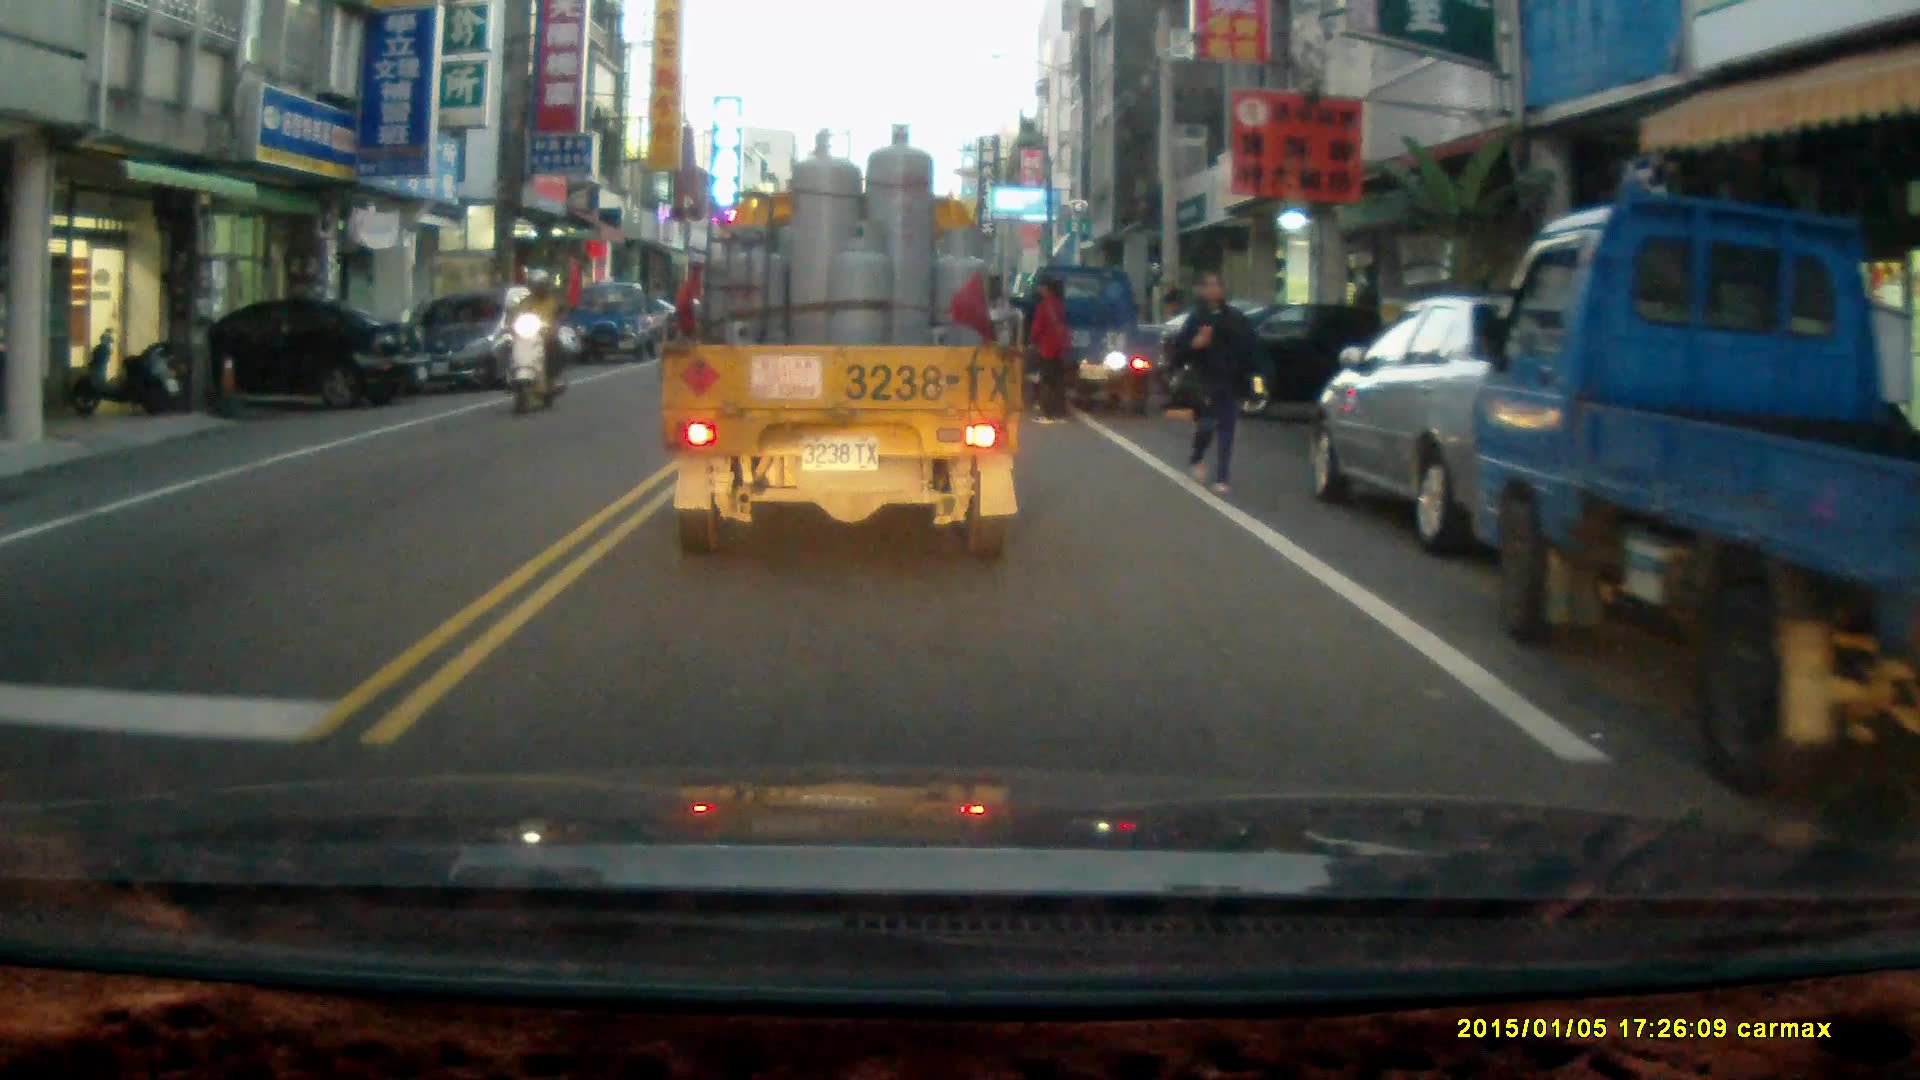pedestrian: (1170, 262, 1268, 492), (1024, 275, 1068, 419)
rider: (503, 265, 568, 414)
vehicle: (1470, 187, 1920, 786), (663, 124, 1026, 566), (1310, 291, 1653, 561), (1165, 297, 1455, 432), (116, 294, 425, 410), (1010, 261, 1165, 413), (415, 290, 562, 395), (569, 279, 674, 365)
